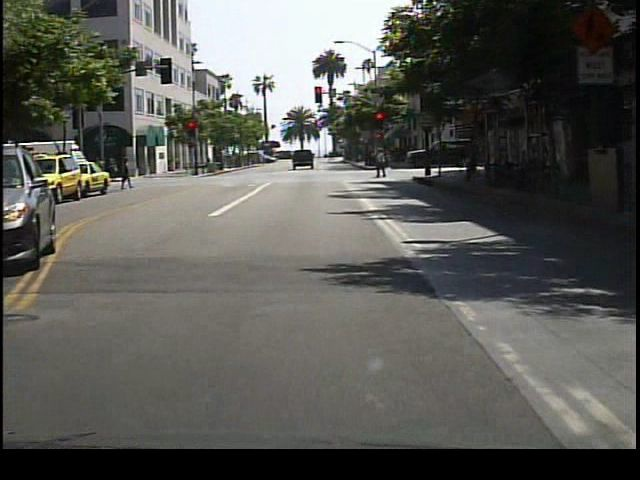person: (462, 138, 481, 181), (118, 157, 134, 192), (375, 148, 392, 180)
